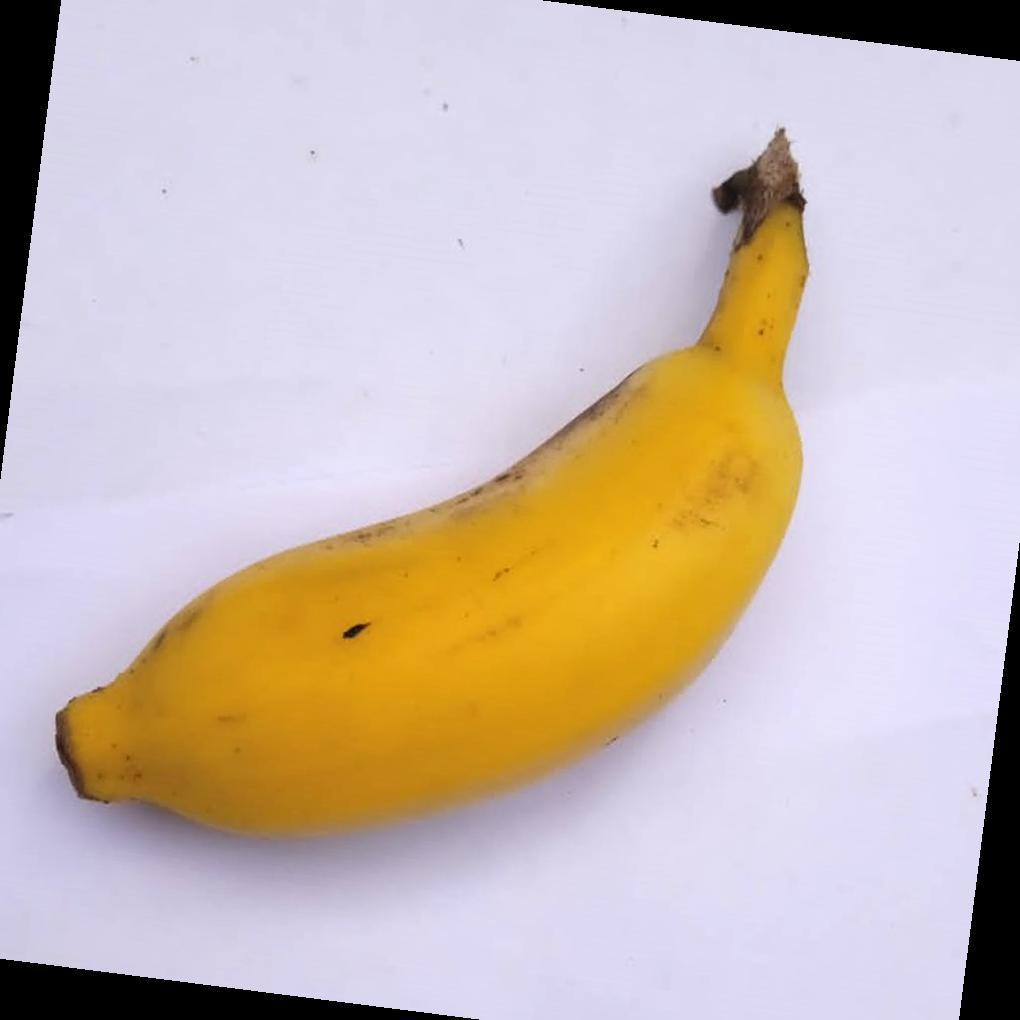Banana Ripe: (49, 139, 820, 950)
